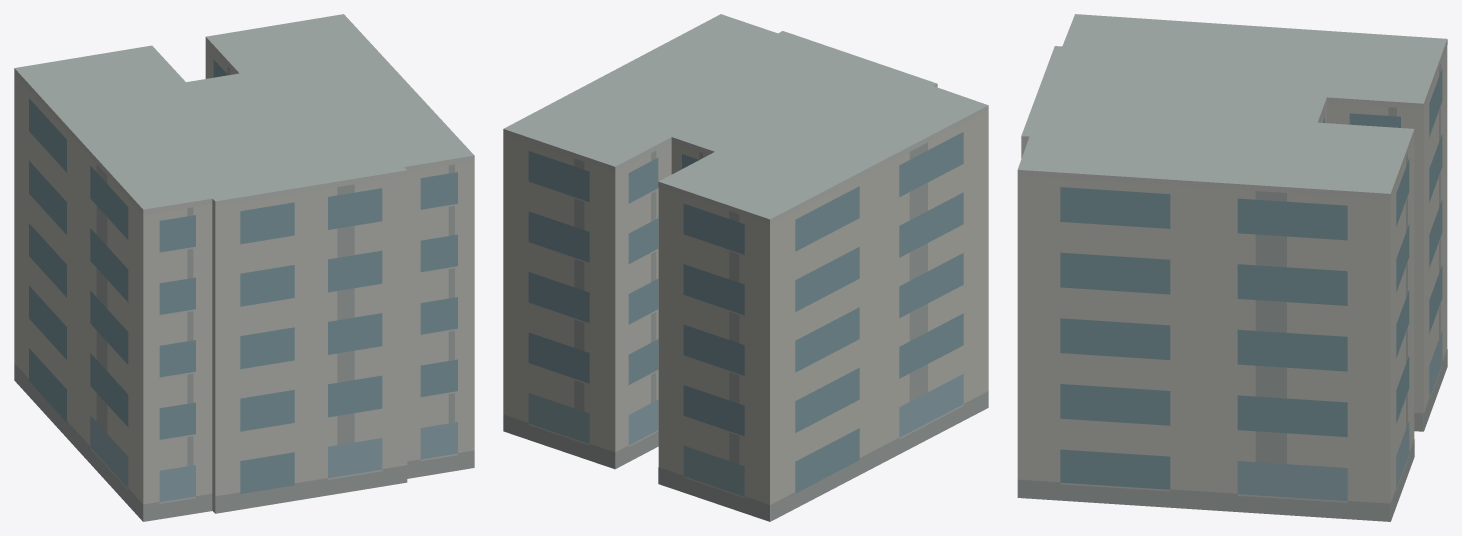
The model's file is survey-upis-32511640.glb.
3 renders of one model, left to right at view 1: azimuth 30°, elevation 25°; view 2: azimuth 150°, elevation 25°; view 3: azimuth 270°, elevation 25°, orthographic. The views are drawn at different scales.
Visible parts, largest first — view 1: survey-upis-32511640.tmp; view 2: survey-upis-32511640.tmp; view 3: survey-upis-32511640.tmp.
Boxes of the visible parts, box(x1,y1,x2,y2) form: survey-upis-32511640.tmp: box(14, 14, 474, 521); survey-upis-32511640.tmp: box(503, 14, 988, 521); survey-upis-32511640.tmp: box(1017, 14, 1447, 521).
Bounding box in the file's own units: 16.12 × 13.7 × 16.28.
